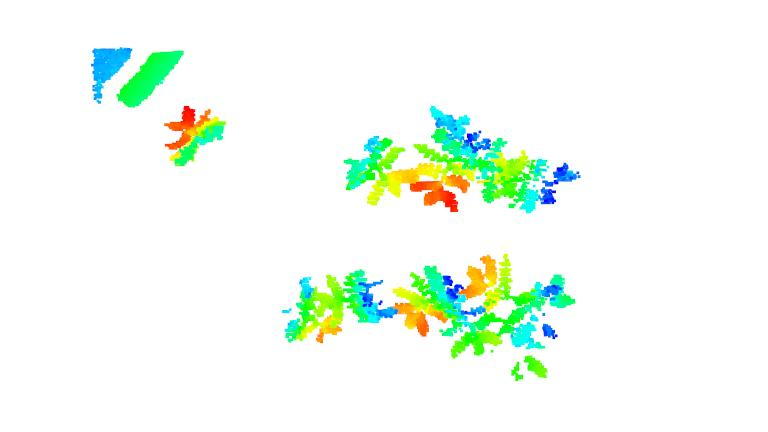chickpea: (464, 250, 577, 381), (391, 264, 504, 367), (415, 109, 489, 220), (494, 137, 579, 217), (333, 132, 421, 209), (160, 102, 229, 169), (284, 275, 349, 343), (337, 269, 399, 329)
